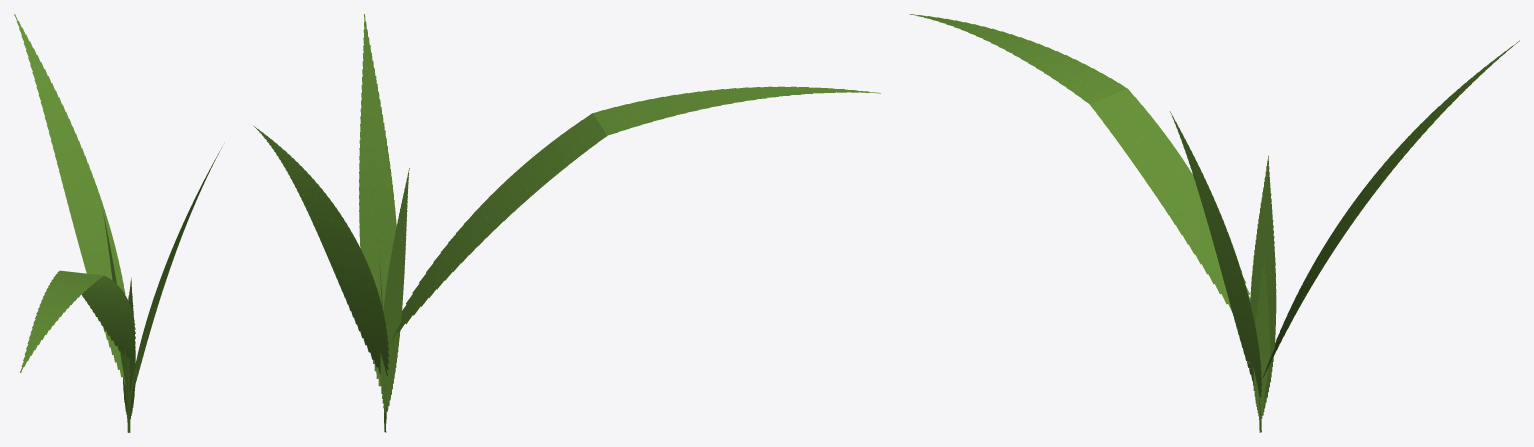
The model's file is maize_002_day_050.dae.
3 views of the same model, side by side, from view 1: azimuth 30°, elevation 25°; view 2: azimuth 150°, elevation 25°; view 3: azimuth 270°, elevation 25° (orthographic). The views are drawn at different scales.
Visible parts, largest first — view 1: node; view 2: node; view 3: node.
Boxes of the visible parts, left/top/right/bottom form: node: left=14, top=14, right=221, bottom=432; node: left=254, top=14, right=880, bottom=432; node: left=909, top=14, right=1519, bottom=432.
Size of the model in its own units: 0.2394 by 0.243 by 0.3447.
Materials: 1 (1 with a texture image).
